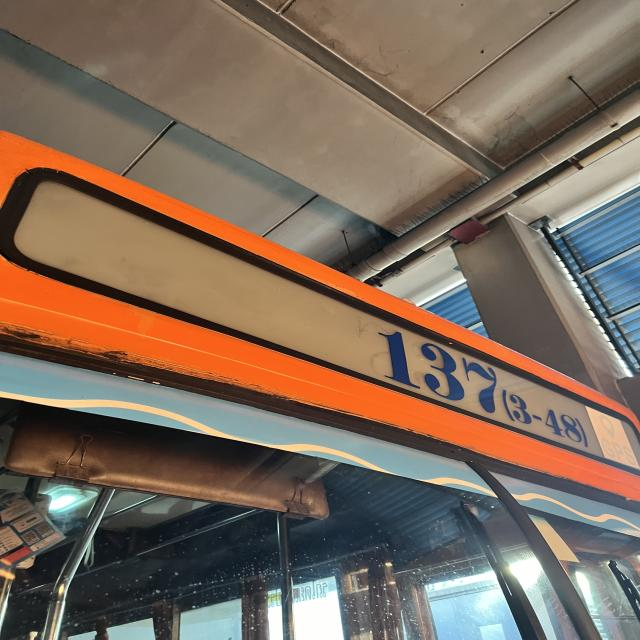BMTA-bus: (0, 124, 640, 640)
Bus-Line-Number: (366, 317, 595, 453)
